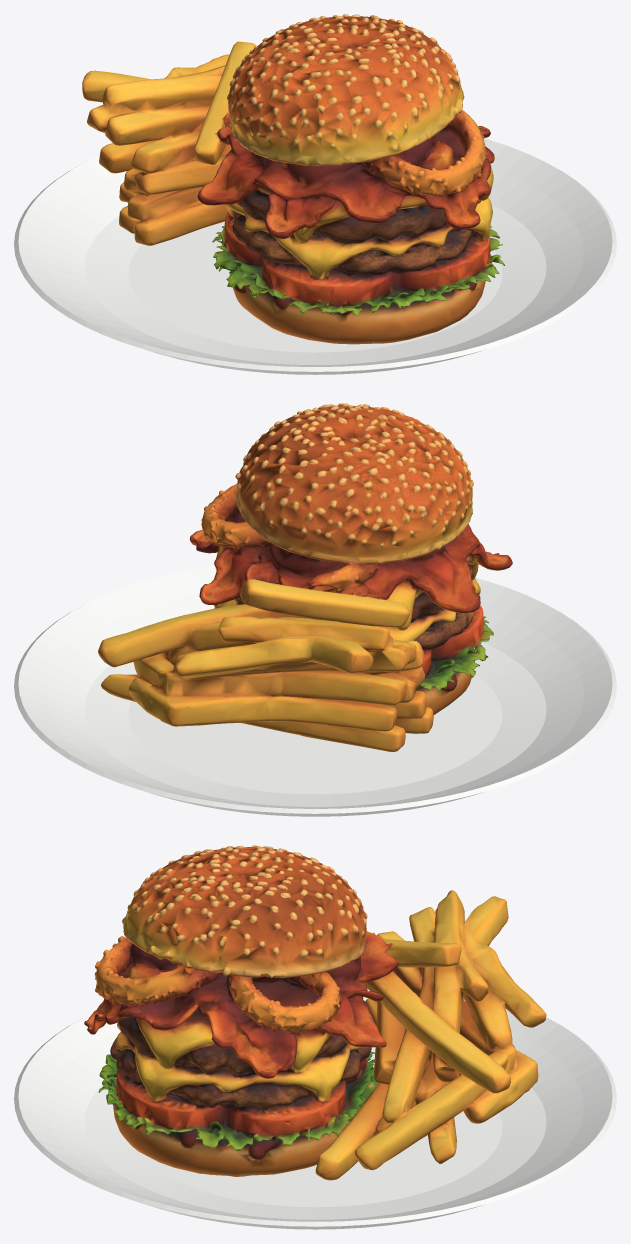
Rendered from hamburguesa_11.glb.
3 views of the same model, one above another, from view 1: azimuth 30°, elevation 25°; view 2: azimuth 150°, elevation 25°; view 3: azimuth 270°, elevation 25° (orthographic).
Parts seen in each view (by area): view 1: comida, plato; view 2: comida, plato; view 3: comida, plato.
Part boxes in pixels (x1,y1,x2,y2): comida: [82, 14, 504, 344]; plato: [14, 138, 616, 374]; comida: [98, 403, 512, 751]; plato: [14, 565, 616, 816]; comida: [84, 845, 546, 1180]; plato: [14, 989, 616, 1229].
Size of the model in its own units: 0.274 by 0.1374 by 0.274.
2 materials, 1 textured.
